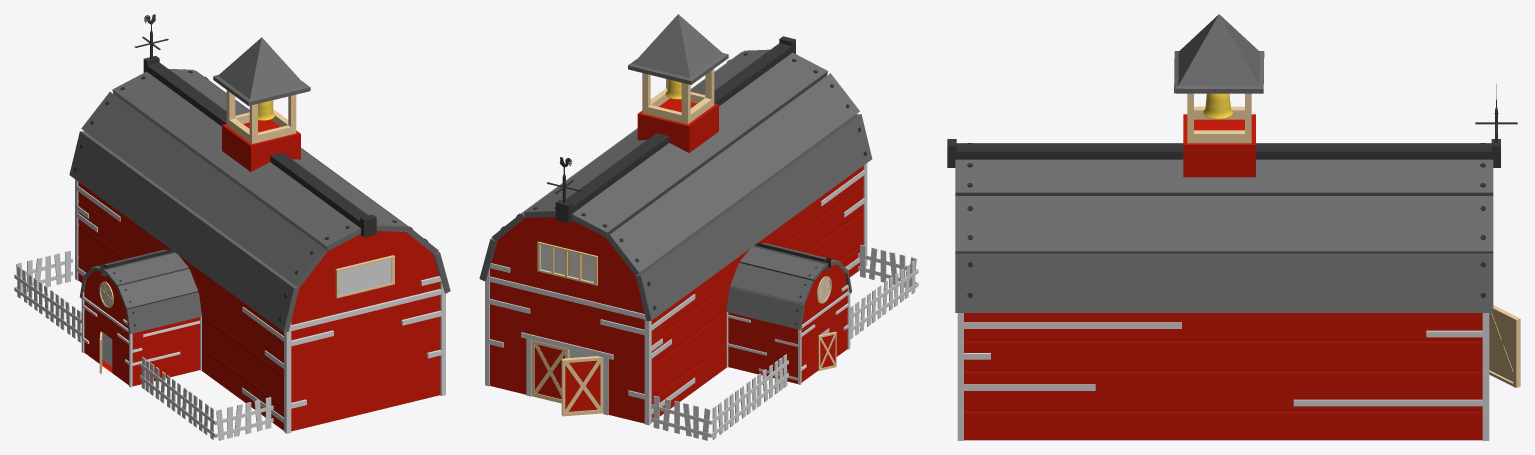
File: farm_barn_-_low_poly_farm_barn_model.glb
3 views of the same model, side by side, from view 1: azimuth 30°, elevation 25°; view 2: azimuth 150°, elevation 25°; view 3: azimuth 270°, elevation 25° (orthographic). The views are drawn at different scales.
Parts seen in each view (by area): view 1: Cube, Cube.031, Cube.037, Cube.006, Cube.001, Cone, Cube.009, Cube.008, Cube.002, Cube.003, Cube.004; view 2: Cube, Cube.006, Cube.031, Cube.037, Cube.001, Cone, Cube.008, Cube.009, Cube.012, Cube.002, Cube.003, Cube.013 (+3 smaller); view 3: Cube, Cube.001, Cube.006, Cone, Cube.002, Cube.012, Cube.003, Circle.001.
Boxes of the visible parts, box(x1,y1,x2,y2) form: Cube: box(69, 69, 450, 431); Cube.031: box(84, 270, 199, 386); Cube.037: box(79, 249, 201, 333); Cube.006: box(75, 179, 445, 433); Cube.001: box(143, 56, 376, 237); Cone: box(213, 37, 310, 105); Cube.009: box(140, 357, 273, 440); Cube.008: box(14, 250, 81, 342); Cube.002: box(222, 119, 300, 171); Cube.003: box(226, 90, 296, 143); Cube.004: box(335, 255, 394, 298); Cube: box(479, 49, 872, 423); Cube.006: box(485, 163, 867, 425); Cube.031: box(728, 264, 847, 383); Cube.037: box(726, 243, 851, 329); Cube.001: box(555, 36, 795, 223); Cone: box(628, 14, 728, 84); Cube.008: box(651, 354, 788, 440); Cube.009: box(850, 244, 918, 339); Cube.012: box(561, 356, 603, 416); Cube.002: box(637, 98, 718, 152); Cube.003: box(642, 69, 714, 124); Cube.013: box(531, 340, 569, 403); Cube: box(955, 143, 1493, 440); Cube.001: box(947, 139, 1500, 167); Cube.006: box(957, 313, 1489, 440); Cone: box(1174, 14, 1264, 93); Cube.002: box(1183, 114, 1255, 177); Cube.012: box(1489, 305, 1520, 387); Cube.003: box(1187, 93, 1251, 143); Circle.001: box(1203, 93, 1232, 119).
Bounding box in the file's own units: 6.85 × 8.22 × 11.21.
